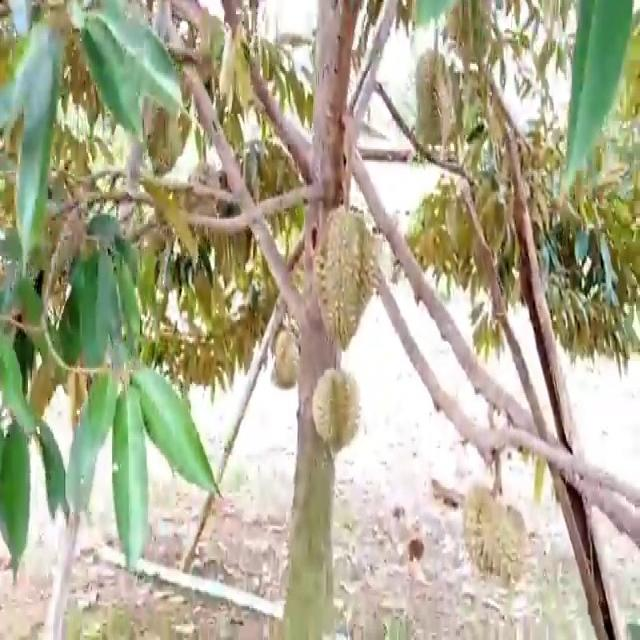durian: (312, 197, 378, 354), (458, 478, 528, 598), (309, 363, 364, 455), (410, 48, 456, 154), (272, 326, 302, 392)
